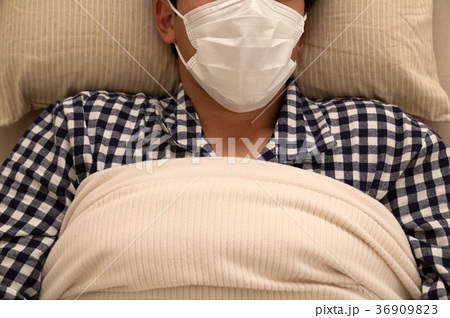mask: (186, 7, 303, 107)
